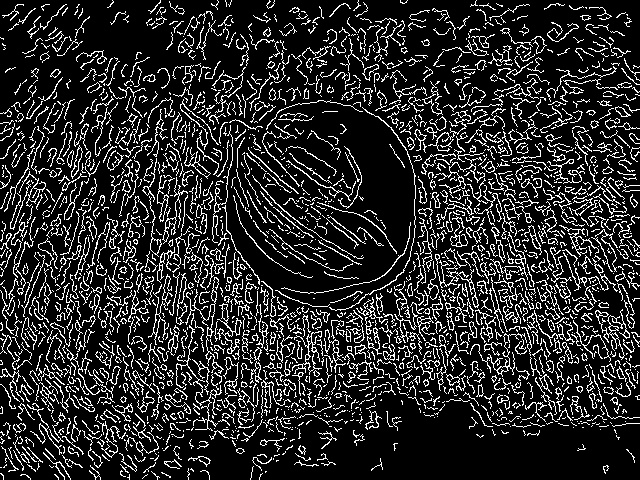onion: (195, 89, 432, 310)
